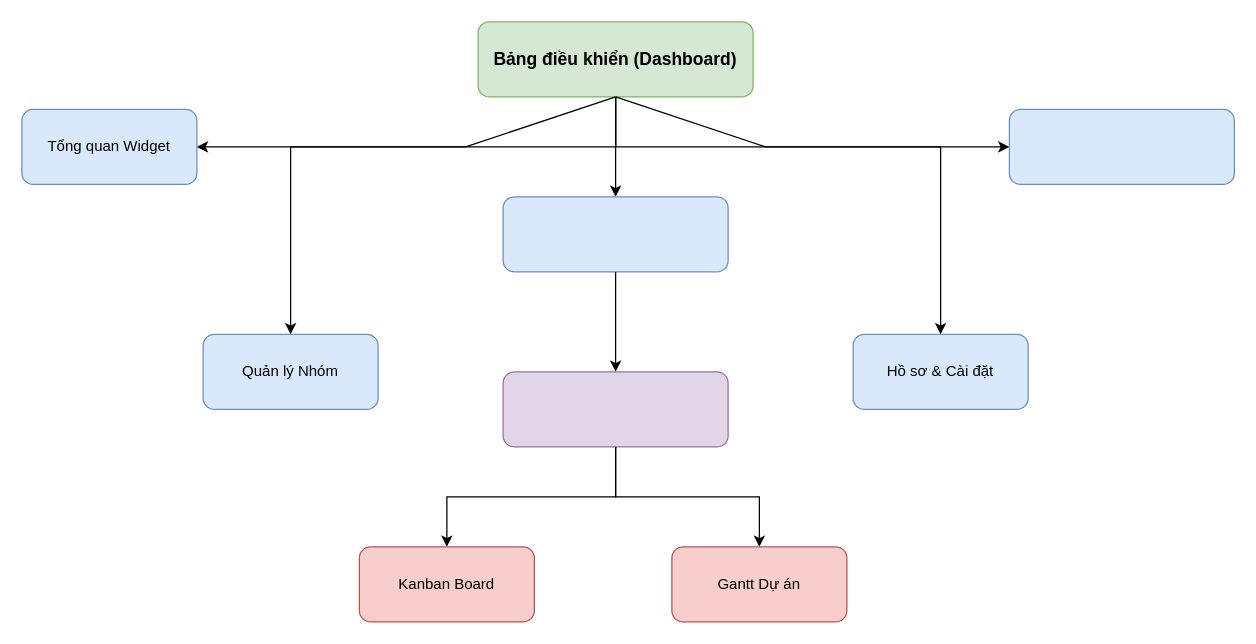
Some shapes in this 1256 by 644 pixel diagram are drawn without their labels. The centre of each missing label's shape, as x and y in pixels:
Chi tiết Dự án: the point at 615,409
Danh sách Dự án: the point at 615,234
Gantt Tổng quan (Portfolio): the point at 1121,146
